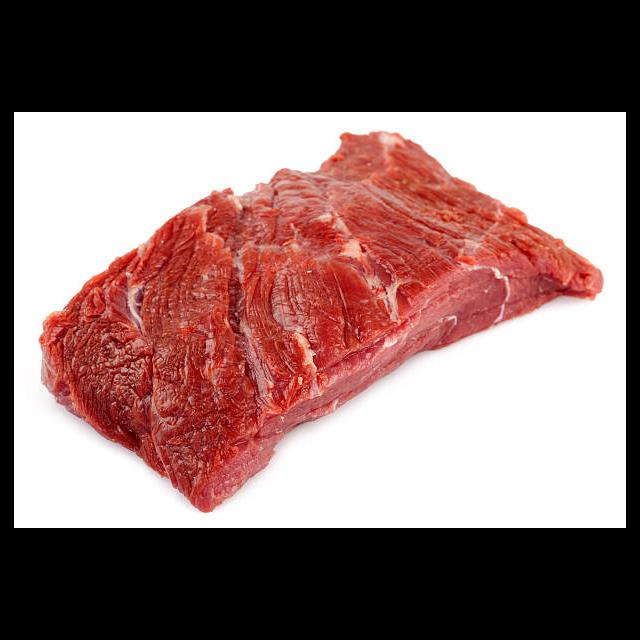beef: (37, 130, 606, 516)
